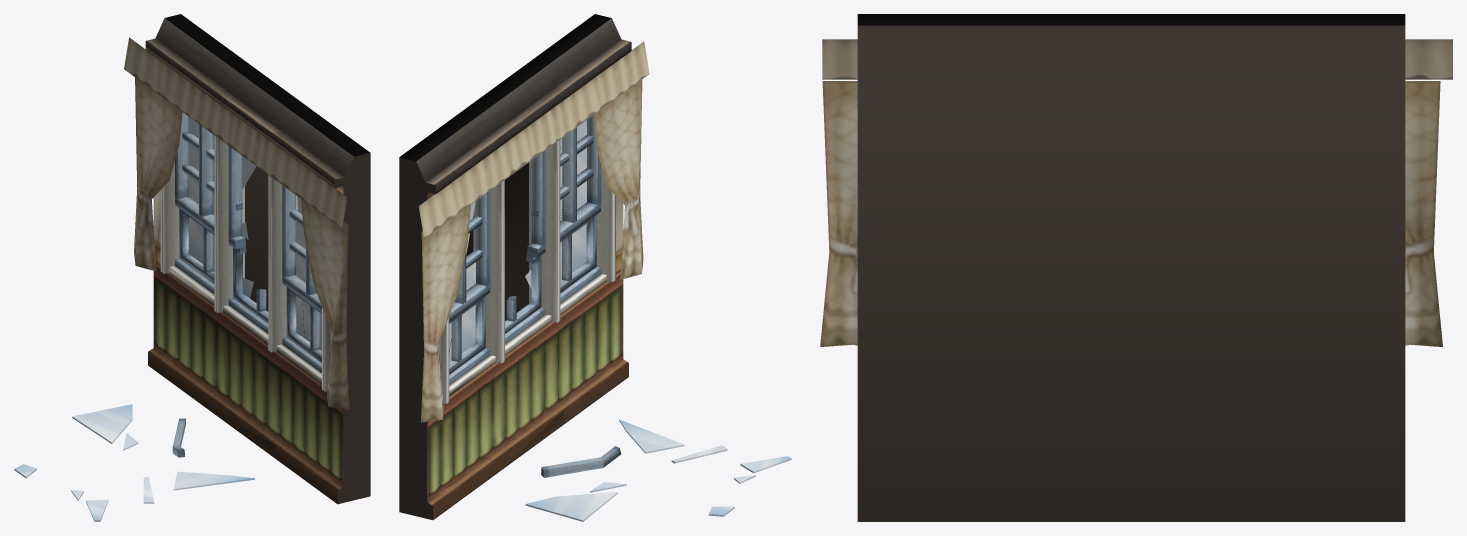
The model's file is a_SWIwall02_05a.glb.
3 views of the same model, side by side, from view 1: azimuth 30°, elevation 25°; view 2: azimuth 150°, elevation 25°; view 3: azimuth 270°, elevation 25° (orthographic). The views are drawn at different scales.
Visible parts, largest first — view 1: a_SWIwall02_05a; view 2: a_SWIwall02_05a; view 3: a_SWIwall02_05a.
Boxes of the visible parts, x1=… form: a_SWIwall02_05a: x1=14, y1=14, x2=370, y2=521; a_SWIwall02_05a: x1=399, y1=14, x2=791, y2=521; a_SWIwall02_05a: x1=820, y1=14, x2=1452, y2=521.
Size of the model in its own units: 2.2 by 3.01 by 3.47.
2 materials, 2 textured.
